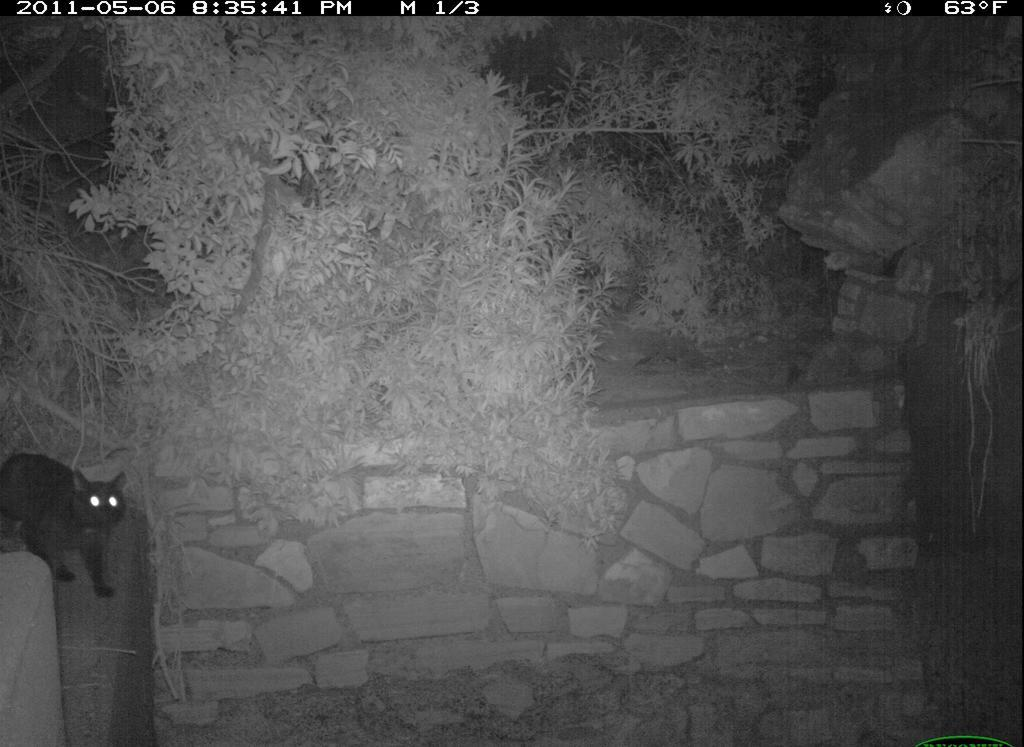cat: (1, 449, 134, 601)
